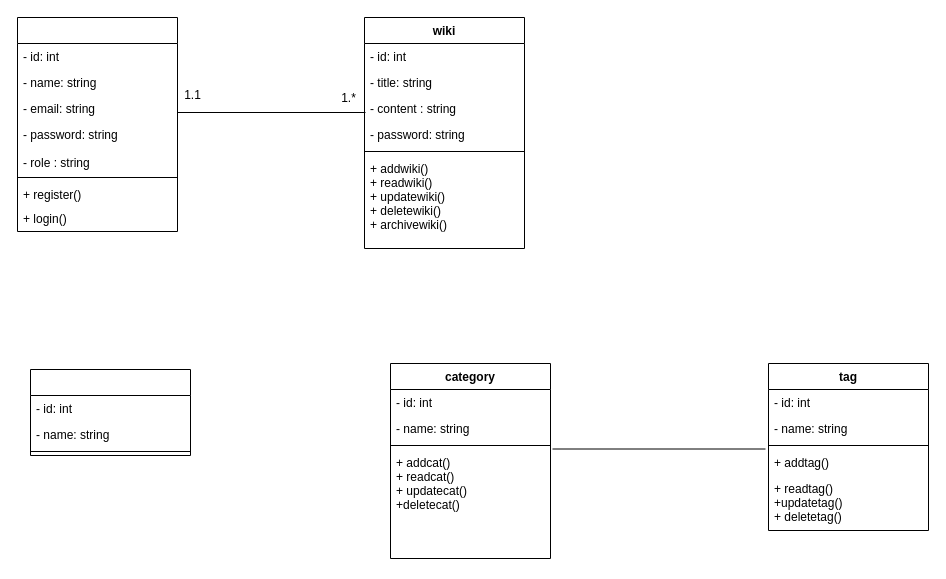
Some shapes in this 946 by 579 pixel diagram are drawn without their labels. The shapes that lost their labels are listed below. From the top down, each one's box as (x1, y1, x2, y2) in pixels, then its label:
(16, 16, 178, 232): user
(30, 368, 190, 456): role
